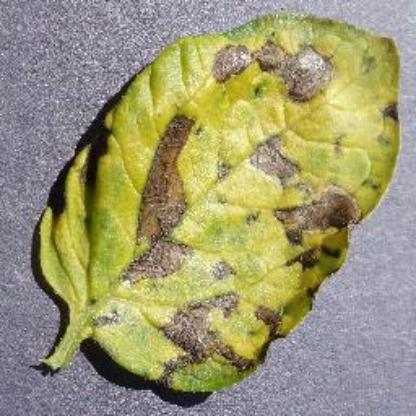Early-Blight: (30, 10, 416, 402)
